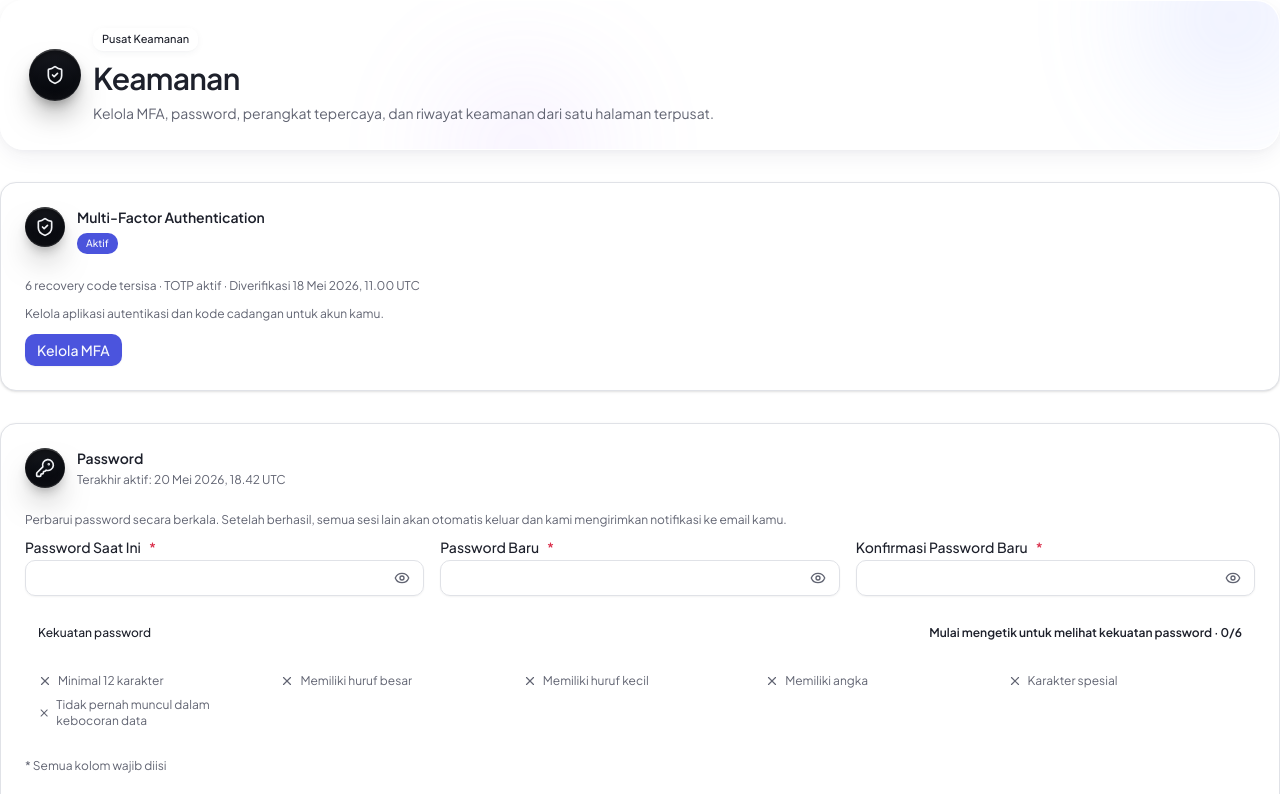
SecurityPage › keeps password change as a full-width section with reveal buttons and live strength checklist
Check: the number of buttons named "Tampilkan password" is 3, box 388,564 -> 416,592; 804,564 -> 832,592; 1219,564 -> 1247,592
Step 1. Type "NewSecure456!" into the password field with id "new_password" → (640, 578), box 440,560 -> 840,596
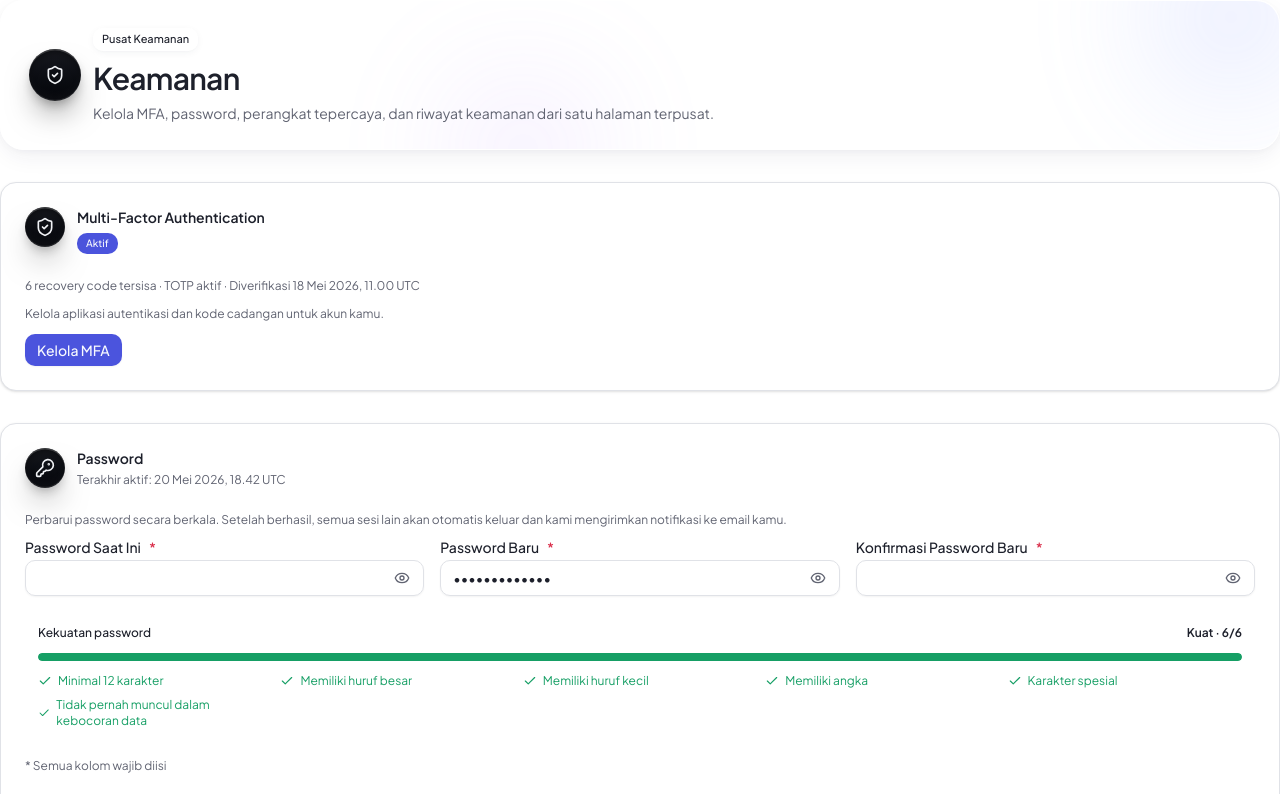
Step 2. Click the 2nd button named "Tampilkan password" → (818, 578), box 804,564 -> 832,592
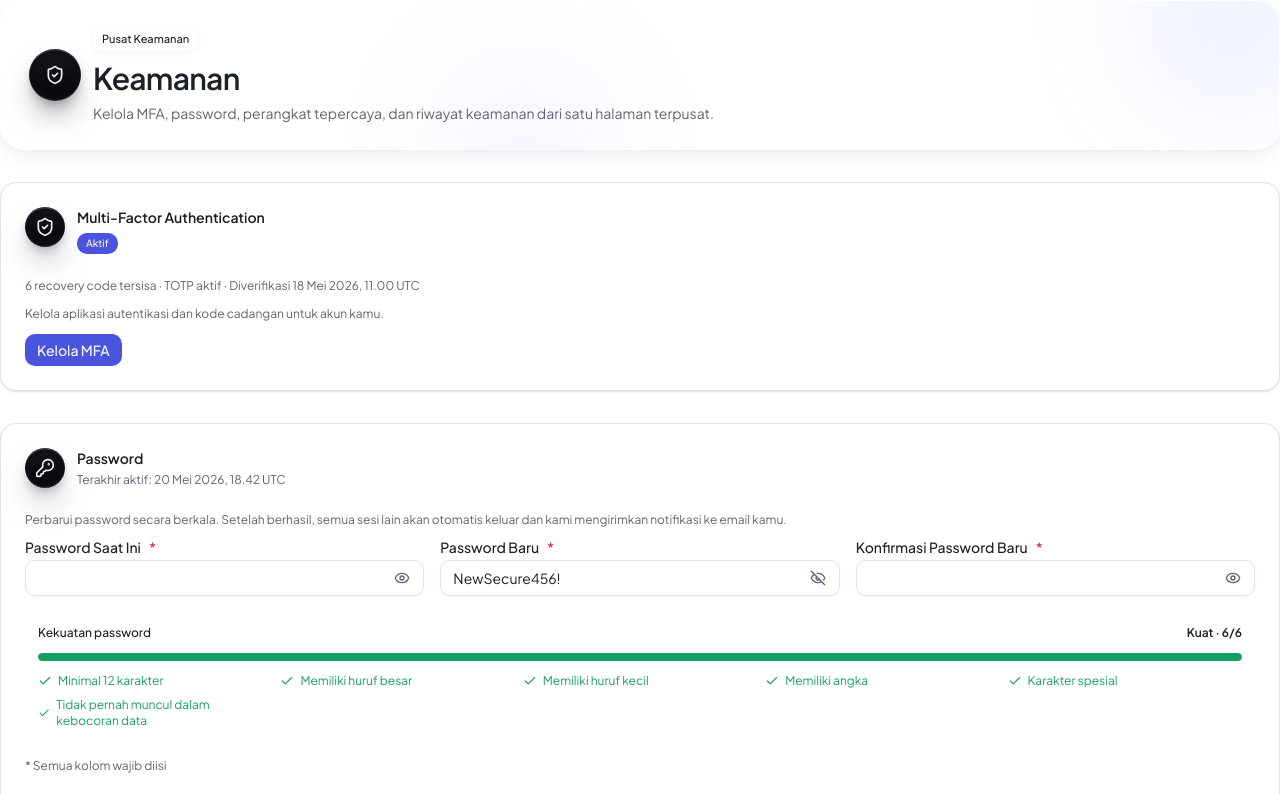
Check: the text "Minimal 12 karakter" is shown, box 58,672 -> 163,688
Check: the text with test id "password-strength-label" reads "Kuat · 6/6", box 1187,624 -> 1242,640
Check: the field with id "new_password" shows its text, box 440,560 -> 840,596
